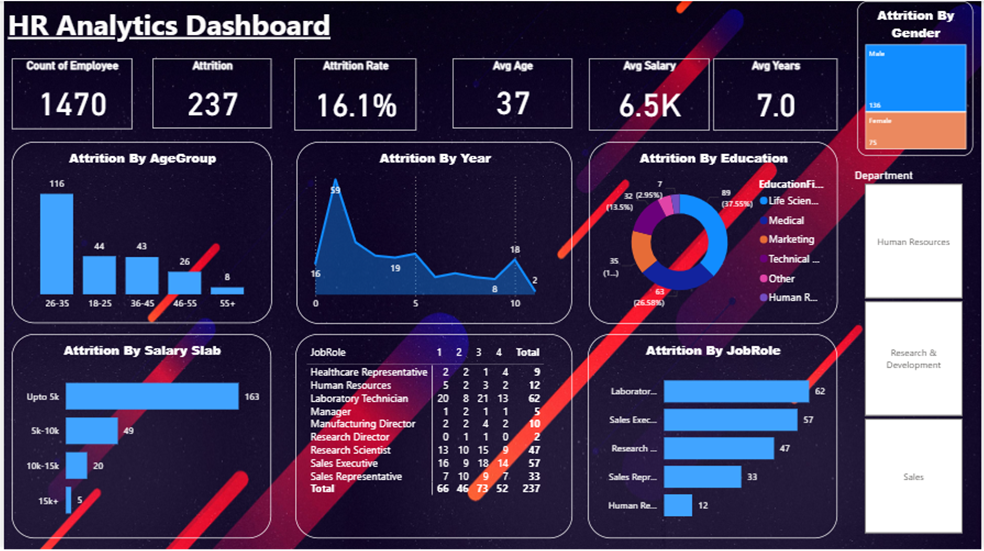

Layout of this report page (visuals, bound fields, positions):
{"tool":"powerbi","page":{"name":"Page 1","canvas":[1280,720],"ordinal":0},"visuals":[{"type":"card","title":"Count of Employee","fields":{"Values":["CountNonNull(HR SHEET.EmpID)"]},"box":[10,75.4,157.7,93.1],"z":0},{"type":"card","title":"Attrition","fields":{"Values":["Sum(HR SHEET.AttritionCount)"]},"box":[194.6,75.4,156.2,92.3],"z":1000},{"type":"card","title":"Attrition Rate","fields":{"Values":["HR SHEET.AttritionRate"]},"box":[380.8,75.4,160,94.6],"z":2000},{"type":"card","title":"Avg Age","fields":{"Values":["Avg(HR SHEET.Age)"]},"box":[586.9,75.4,156.9,91.5],"z":3000},{"type":"card","title":"Avg Salary","fields":{"Values":["Avg(HR SHEET.MonthlyIncome)"]},"box":[765.4,75.4,157.7,94.6],"z":4000},{"type":"card","title":"Avg Years","fields":{"Values":["Avg(HR SHEET.YearsAtCompany)"]},"box":[929.2,75.4,163.1,94.6],"z":5000},{"type":"donutChart","title":"Attrition By Education","fields":{"Category":["HR SHEET.EducationField"],"Y":["Sum(HR SHEET.AttritionCount)"]},"box":[765.7,184.3,325.7,238.6],"z":6000},{"type":"columnChart","title":"Attrition By AgeGroup","fields":{"Category":["HR SHEET.AgeGroup"],"Y":["Sum(HR SHEET.AttritionCount)"]},"box":[10,185,341,238],"z":7000},{"type":"pivotTable","fields":{"Columns":["HR SHEET.JobSatisfaction"],"Rows":["HR SHEET.JobRole"],"Values":["Sum(HR SHEET.AttritionCount)"]},"box":[381,437,363,268],"z":8000},{"type":"barChart","title":"Attrition By Salary Slab","fields":{"Category":["HR SHEET.SalarySlab"],"Y":["Sum(HR SHEET.AttritionCount)"]},"box":[10,437,340,268],"z":9000},{"type":"areaChart","title":"Attrition By Year","fields":{"Category":["HR SHEET.YearsAtCompany"],"Y":["Sum(HR SHEET.AttritionCount)"]},"box":[382.9,184.3,361.4,238.6],"z":10000},{"type":"barChart","title":"Attrition By JobRole","fields":{"Y":["Sum(HR SHEET.AttritionCount)"],"Category":["HR SHEET.JobRole"]},"box":[765,437,327,268],"z":11000},{"type":"treemap","title":"Attrition By Gender","fields":{"Group":["HR SHEET.Gender"],"Values":["Sum(HR SHEET.AttritionCount)"]},"box":[1118,0,152,203],"z":12000},{"type":"slicer","fields":{"Values":["HR SHEET.Department"]},"box":[1102,215,178,490],"z":13000},{"type":"textbox","box":[0,0,640,65],"z":14001}]}

Visuals, with their boxes in screenshot pixels (x1, y1, x2, y2), scaled from the page's 1280x720 canvas onto the 984x551 screenshot:
"Count of Employee" card: box=[8, 58, 129, 129]
"Attrition" card: box=[150, 58, 270, 128]
"Attrition Rate" card: box=[293, 58, 416, 130]
"Avg Age" card: box=[451, 58, 572, 128]
"Avg Salary" card: box=[588, 58, 710, 130]
"Avg Years" card: box=[714, 58, 840, 130]
"Attrition By Education" donutChart: box=[589, 141, 839, 324]
"Attrition By AgeGroup" columnChart: box=[8, 142, 270, 324]
pivotTable - HR SHEET.JobSatisfaction x HR SHEET.JobRole: box=[293, 334, 572, 540]
"Attrition By Salary Slab" barChart: box=[8, 334, 269, 540]
"Attrition By Year" areaChart: box=[294, 141, 572, 324]
"Attrition By JobRole" barChart: box=[588, 334, 839, 540]
"Attrition By Gender" treemap: box=[859, 0, 976, 155]
slicer - HR SHEET.Department: box=[847, 165, 983, 540]
textbox: box=[0, 0, 492, 50]
